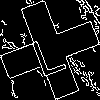L: (25, 25, 68, 78)
